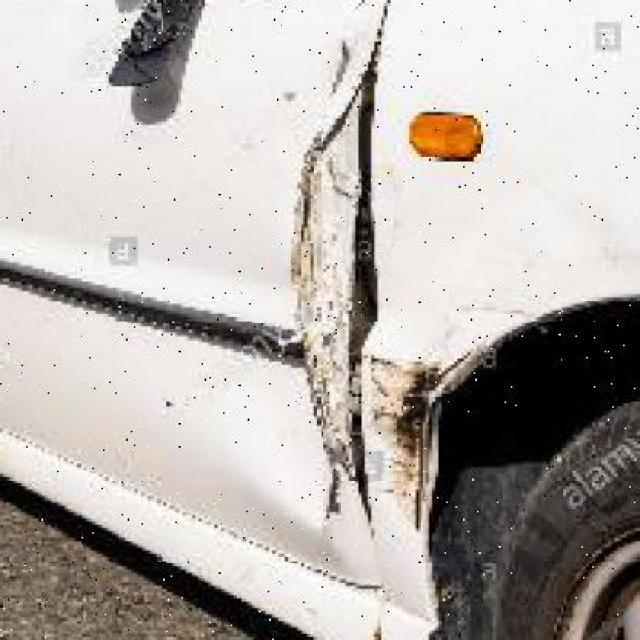car damage: (290, 61, 392, 528), (393, 361, 440, 467), (311, 80, 370, 153), (342, 412, 376, 519), (303, 151, 320, 254), (409, 455, 427, 530), (331, 42, 355, 92), (324, 461, 345, 518)
